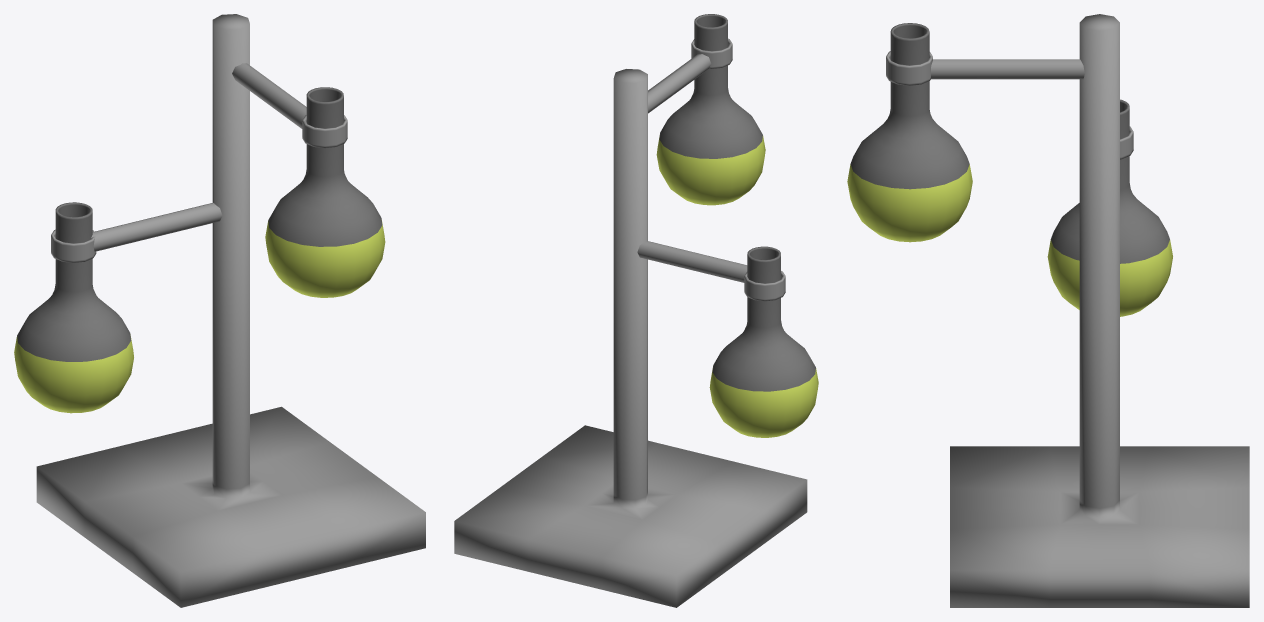
The model's file is flaskstand.glb.
3 views of the same model, side by side, from view 1: azimuth 30°, elevation 25°; view 2: azimuth 150°, elevation 25°; view 3: azimuth 270°, elevation 25° (orthographic). The views are drawn at different scales.
Parts seen in each view (by area): view 1: table1.001, flask.002, flask, table1.002, table1.003, Circle.020, Circle.019; view 2: table1.001, flask, flask.002, table1.002, table1.003, Circle.019, Circle.020; view 3: table1.001, flask.002, flask, table1.003, Circle.020.
Boxes of the visible parts, box(x1,y1,x2,y2) form: table1.001: box(36, 14, 425, 607); flask.002: box(265, 87, 385, 297); flask: box(14, 202, 133, 413); table1.002: box(91, 202, 222, 251); table1.003: box(232, 63, 306, 128); Circle.020: box(302, 115, 347, 148); Circle.019: box(51, 229, 96, 262); table1.001: box(454, 69, 807, 607); flask: box(709, 246, 818, 437); flask.002: box(656, 14, 765, 205); table1.002: box(637, 241, 747, 282); table1.003: box(648, 54, 711, 113); Circle.019: box(744, 271, 785, 301); Circle.020: box(691, 38, 732, 68); table1.001: box(950, 14, 1249, 607); flask.002: box(847, 23, 972, 242); flask: box(1047, 99, 1172, 316); table1.003: box(931, 59, 1084, 79); Circle.020: box(886, 51, 932, 85).
Bounding box in the file's own units: 0.5382 × 0.7922 × 0.5518.
